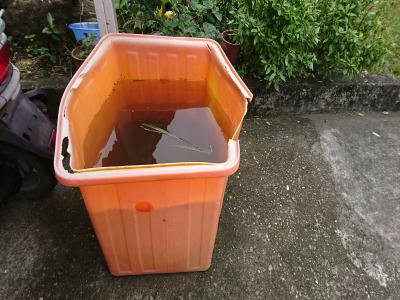bowl: (65, 20, 103, 45)
box: (49, 32, 260, 281)
